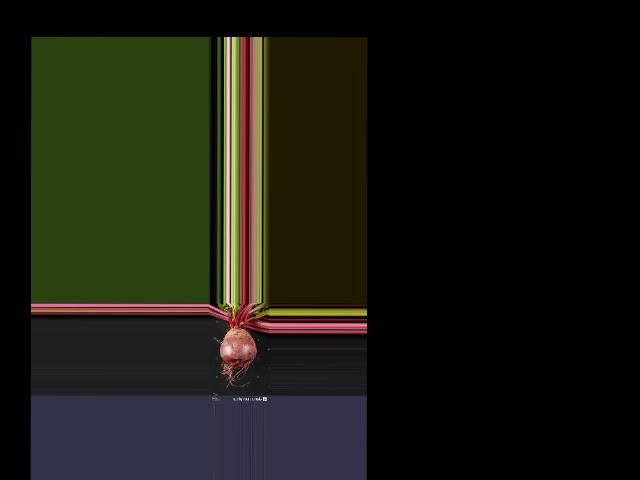beet: (219, 303, 269, 390)
